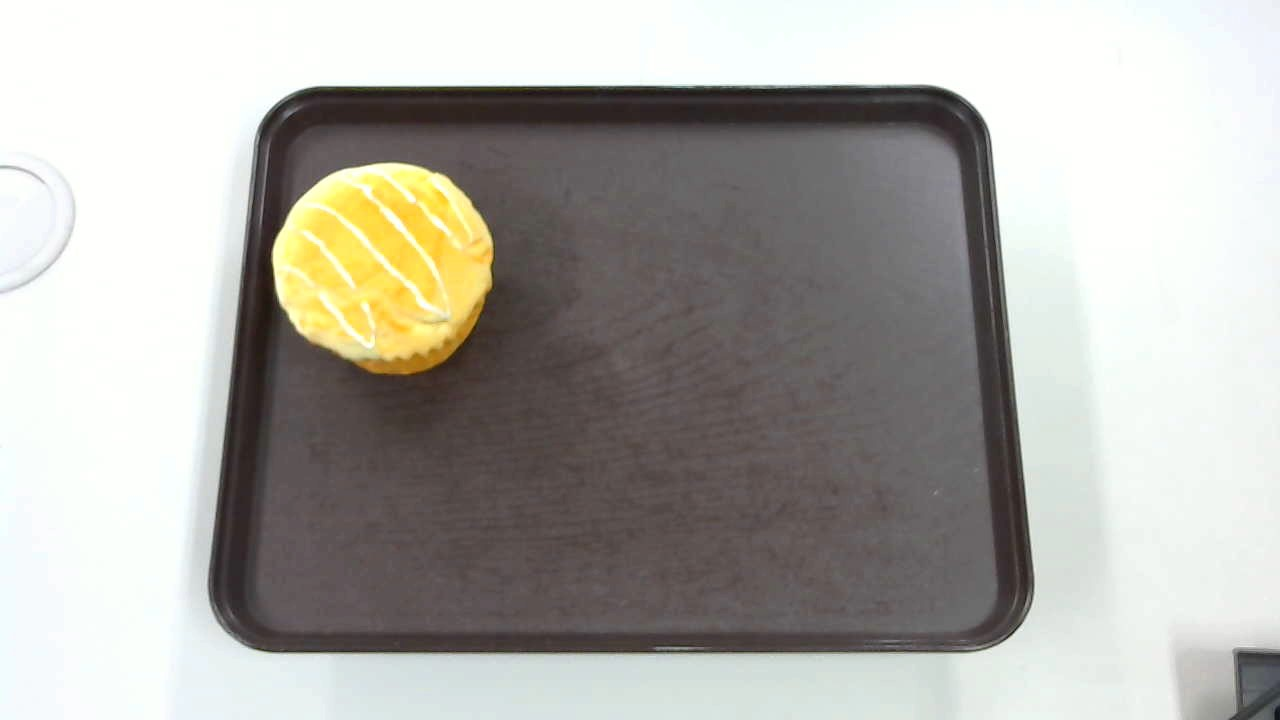cupcake: (271, 162, 494, 376)
